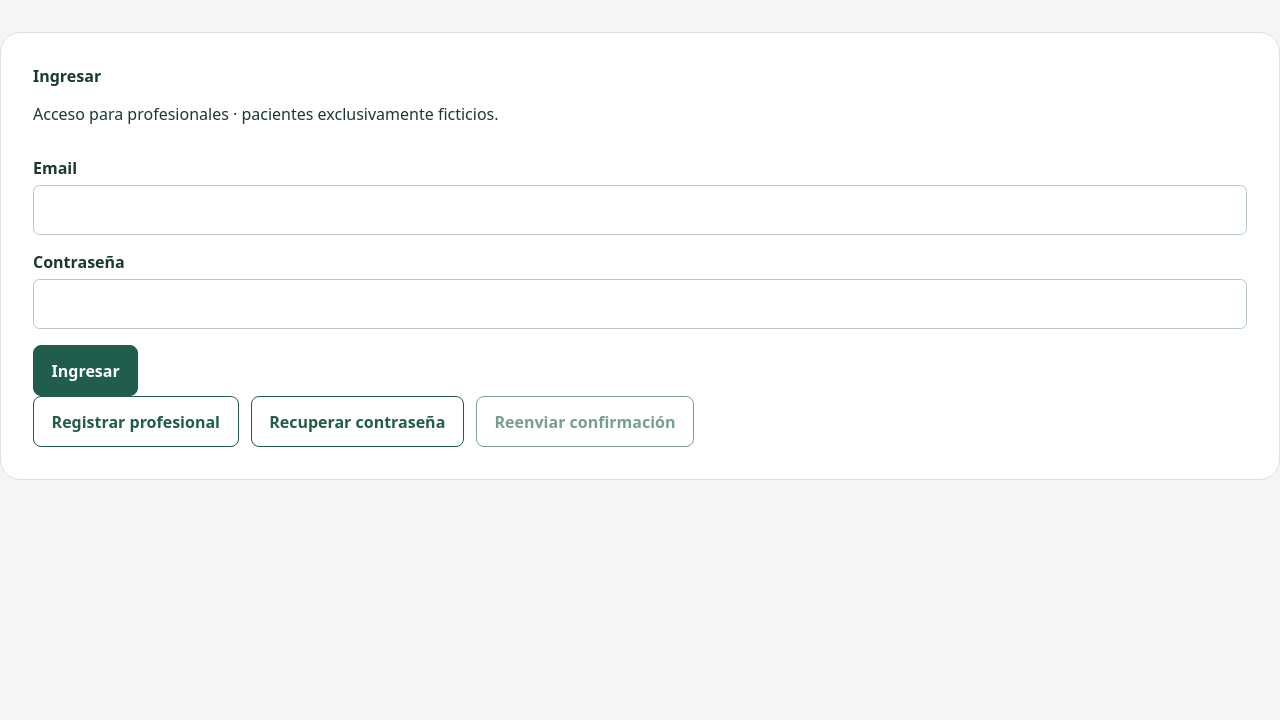
Test: registro/reenvío genéricos y error de código sin acceso
Expected: the field labelled "Email" is shown, [33,185,1247,235]
Click the button "Registrar profesional" at (136, 422), box [33,396,239,447]
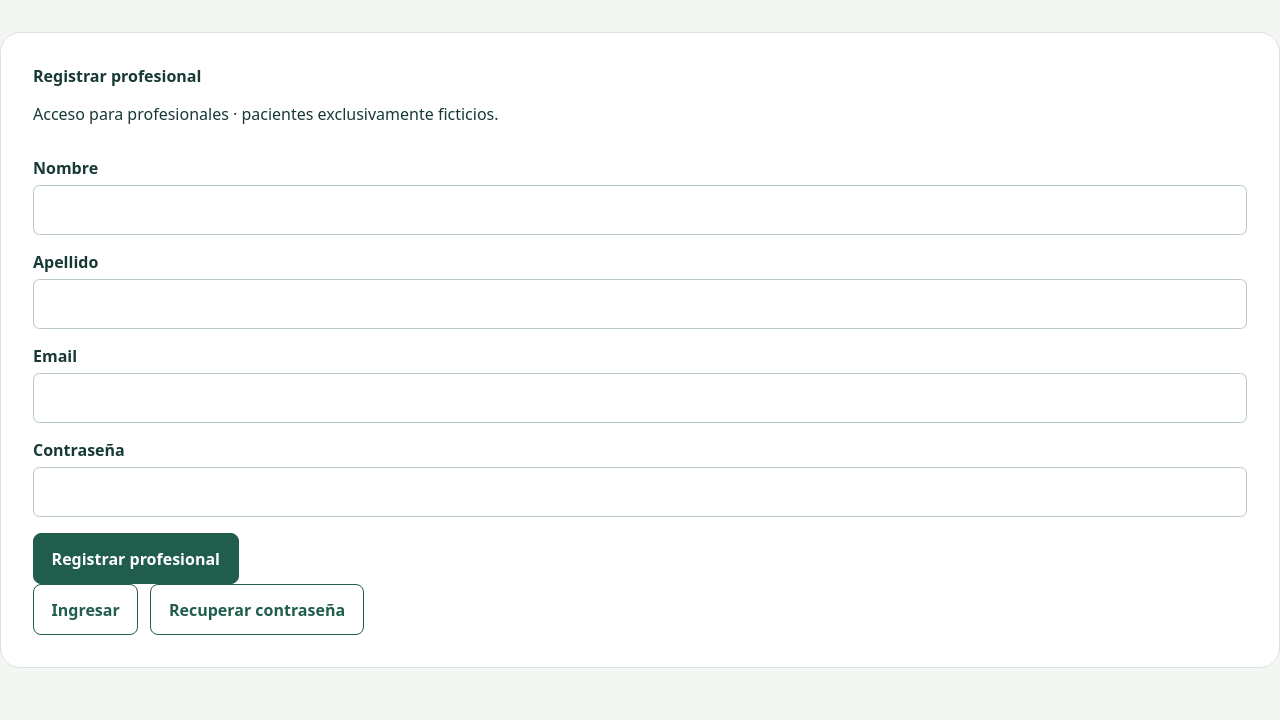
Type "Demo" into the field labelled "Nombre" at (640, 210), box [33,185,1247,235]
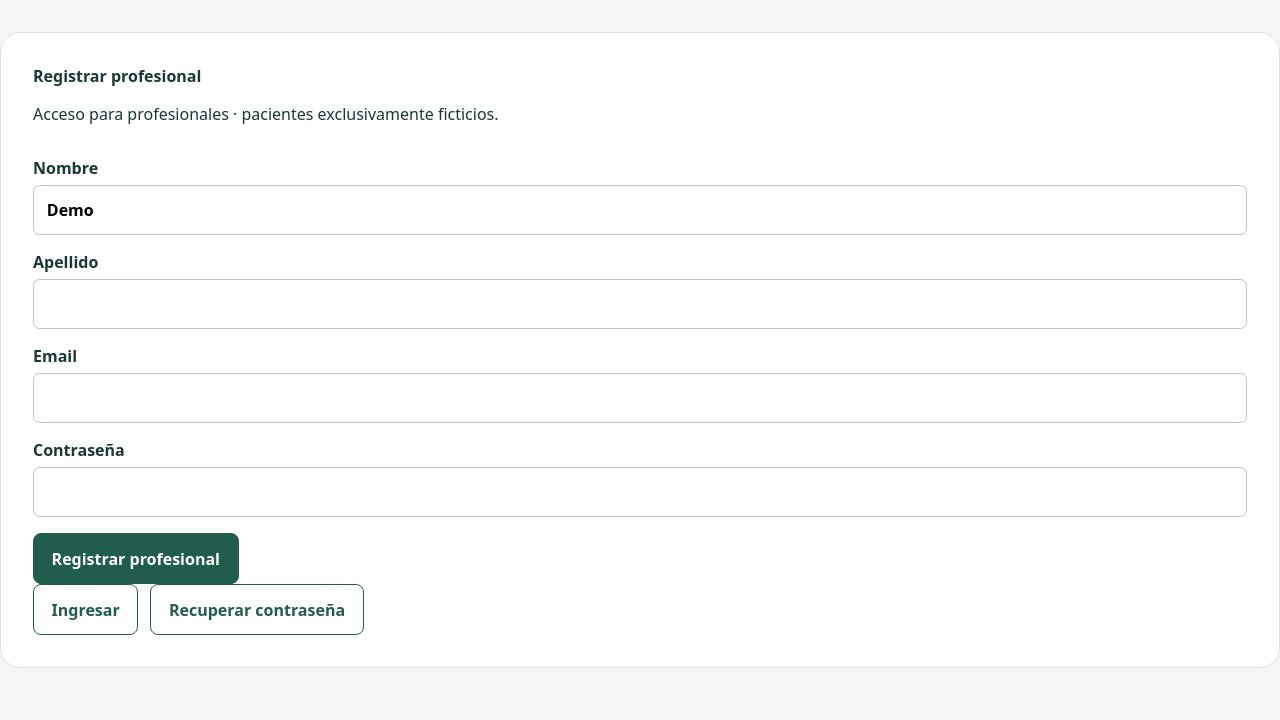
Type "Persona" into the field labelled "Apellido" at (640, 304), box [33,279,1247,329]
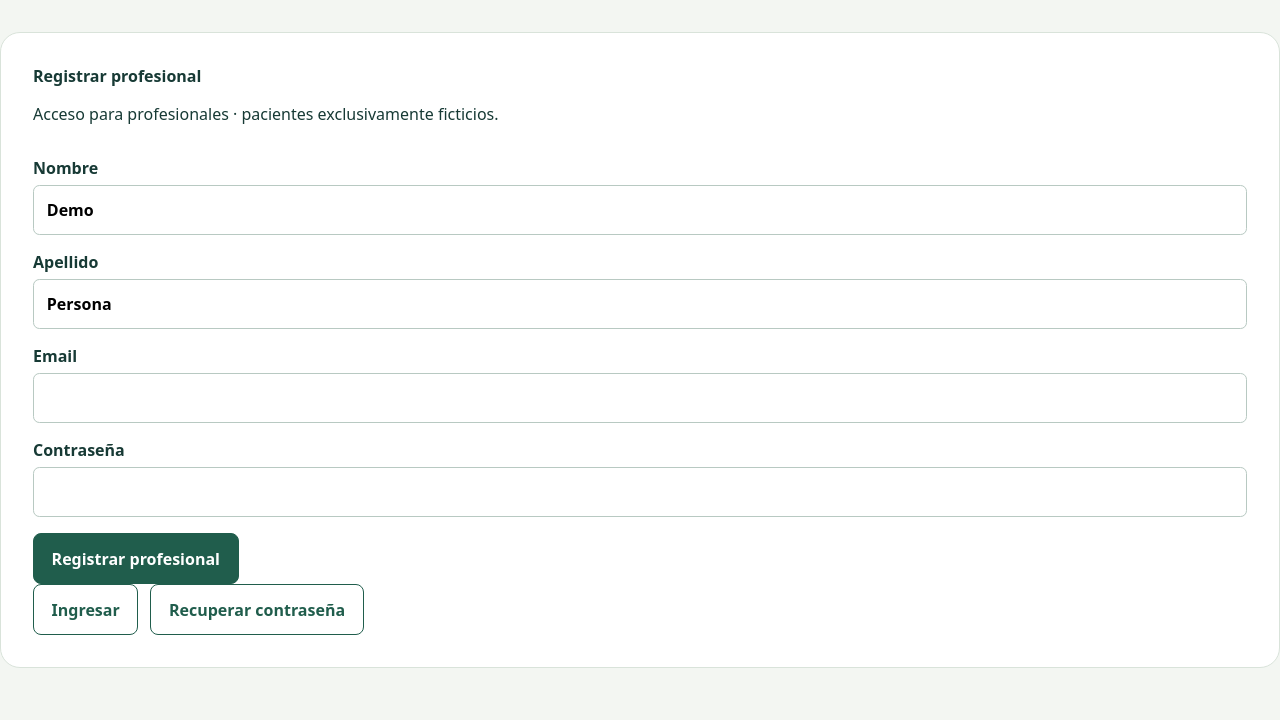
Type "demo@example.invalid" into the field labelled "Email" at (640, 398), box [33,373,1247,423]
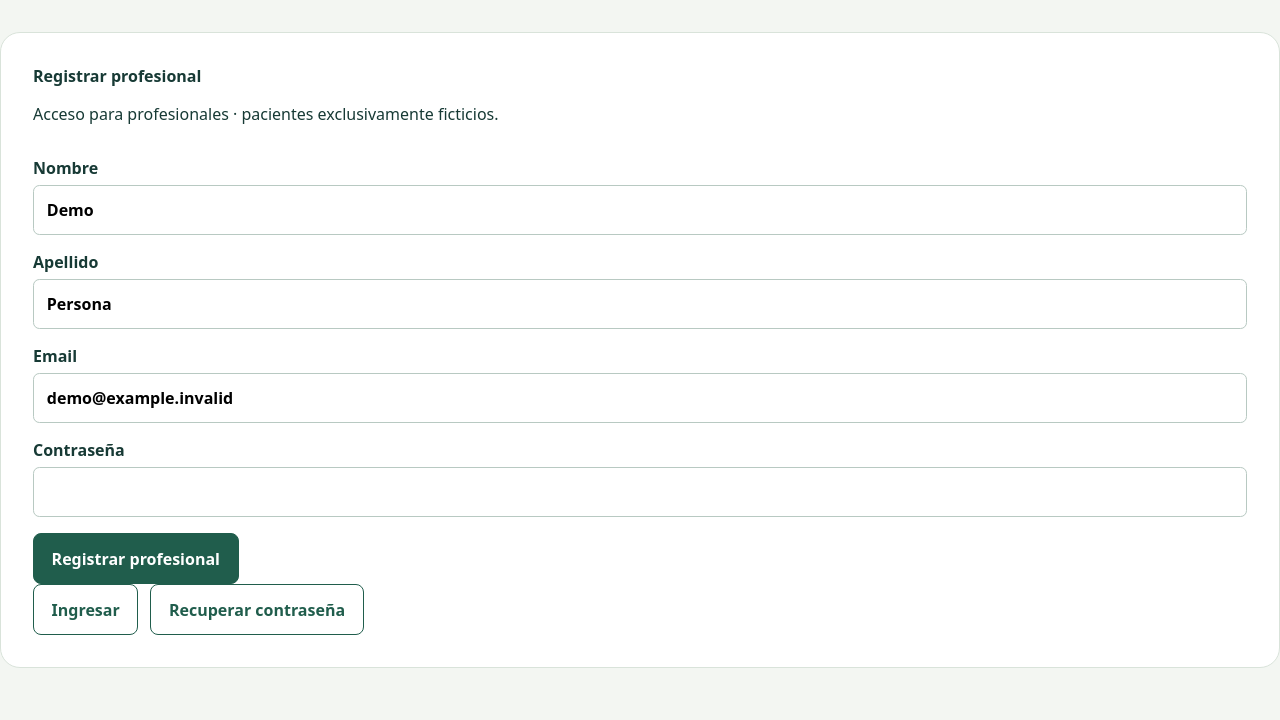
Type "ficticia-123456" into the password field labelled "Contraseña" at (640, 492), box [33,467,1247,517]
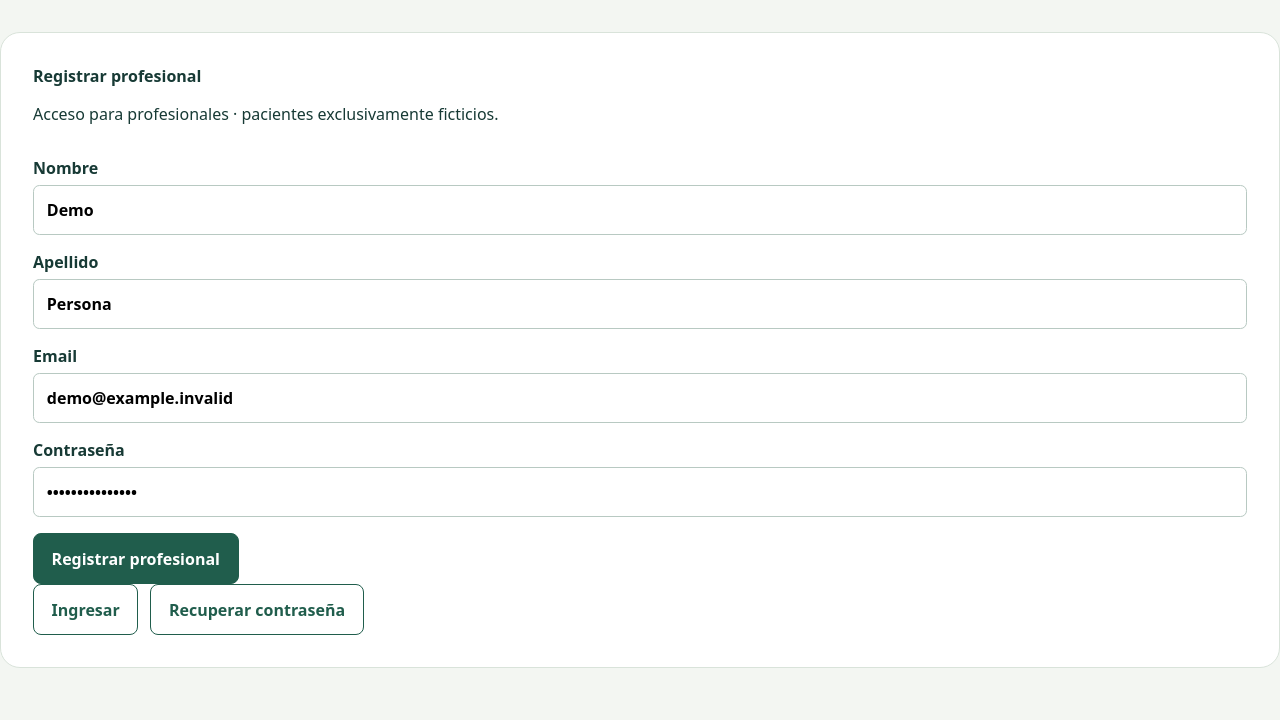
Submit the form "Registrar profesional", box [33,141,1247,584]
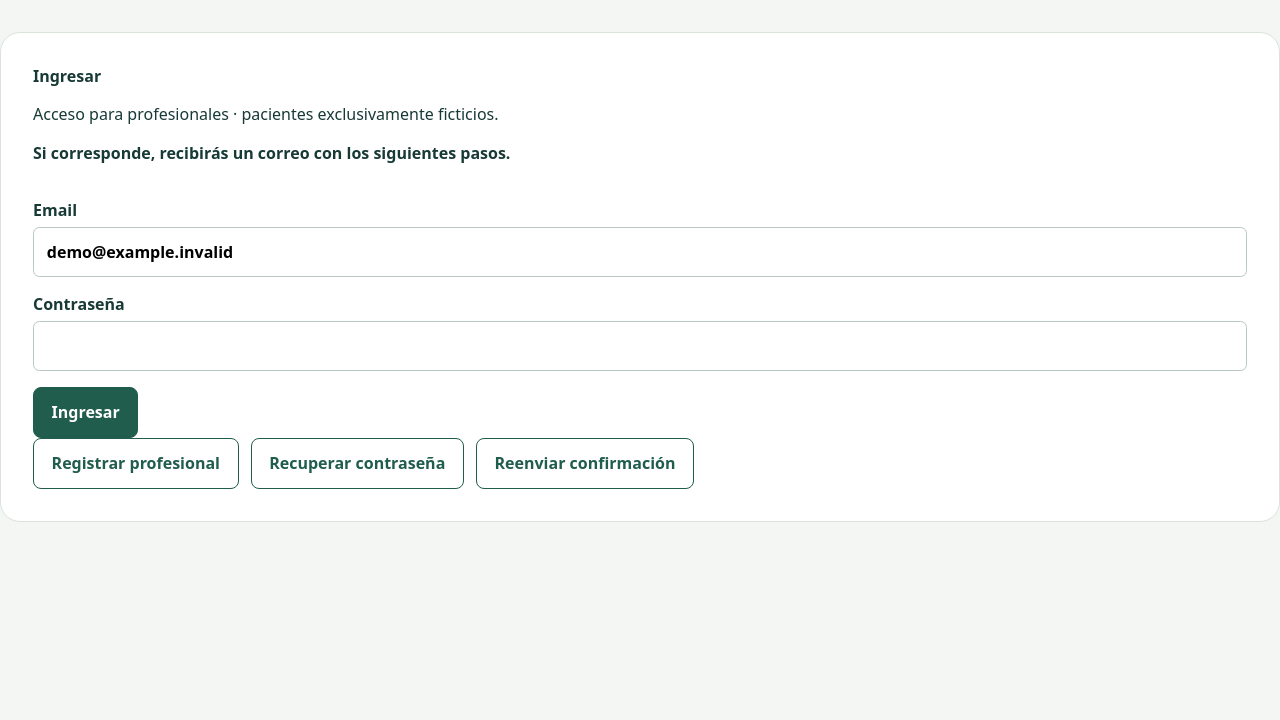
Now the text "Si corresponde, recibirás un correo con los siguientes pasos." is shown, box [33,142,510,164]
